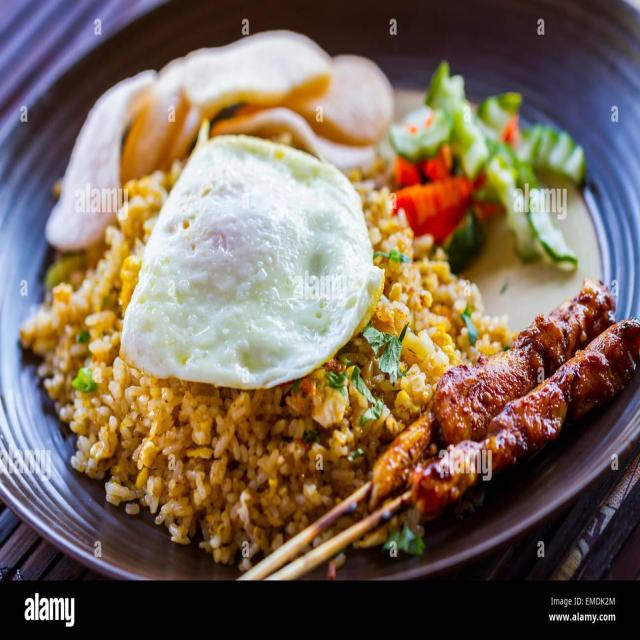Nasi Goreng: (33, 124, 416, 564)
